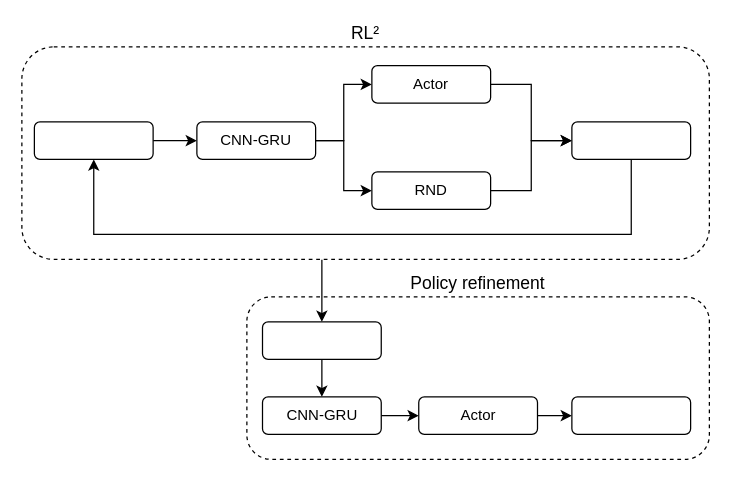
Some shapes in this 731 by 481 pixel diagram are drawn without their labels. The centre of each missing label's shape, as x and y in pixels:
"Action" goes at point (631, 140).
"Episodic returns" goes at point (321, 340).
"Observation" goes at point (93, 140).
"Policy gradient" goes at point (631, 415).
